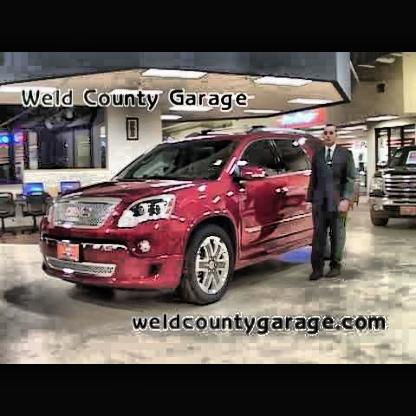GMC Acadia SUV 2012: (37, 126, 329, 304)
